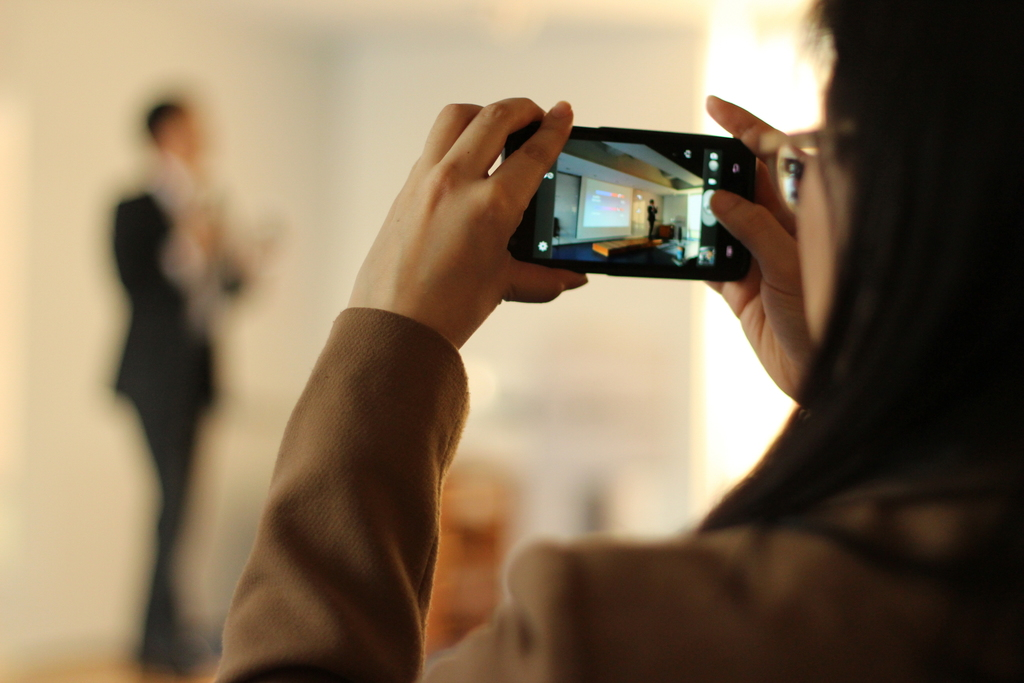Mobile-phone: (504, 115, 761, 287)
